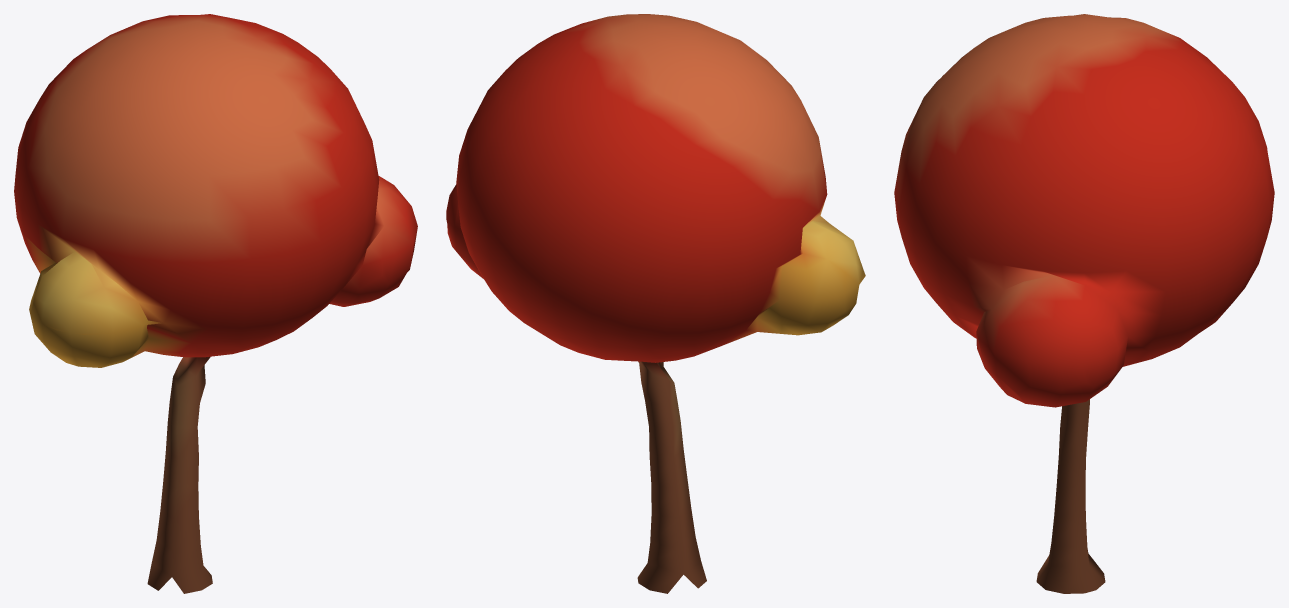
File: lollipop-tree-106-lod2.obj
3 renders of one model, left to right at view 1: azimuth 30°, elevation 25°; view 2: azimuth 150°, elevation 25°; view 3: azimuth 270°, elevation 25°, orthographic. The views are drawn at different scales.
Parts seen in each view (by area): view 1: simplified; view 2: simplified; view 3: simplified.
Part boxes in pixels (x1,y1,x2,y2): simplified: (14, 14, 417, 593); simplified: (446, 14, 865, 593); simplified: (894, 14, 1274, 593).
Bounding box in the file's own units: 366 × 492 × 304.
